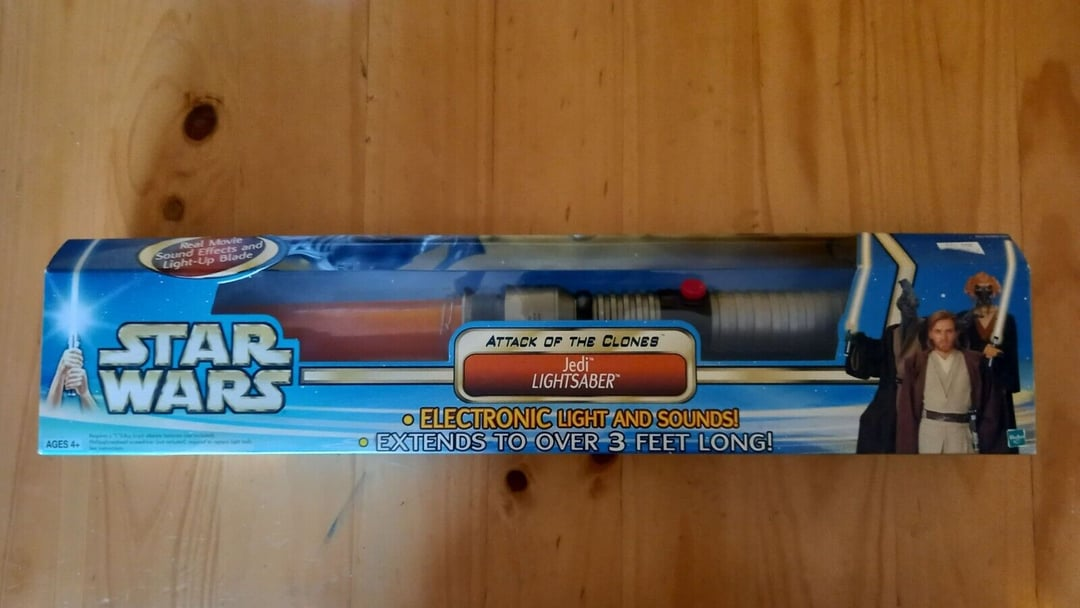lightsaber: (69, 210, 1016, 436)
